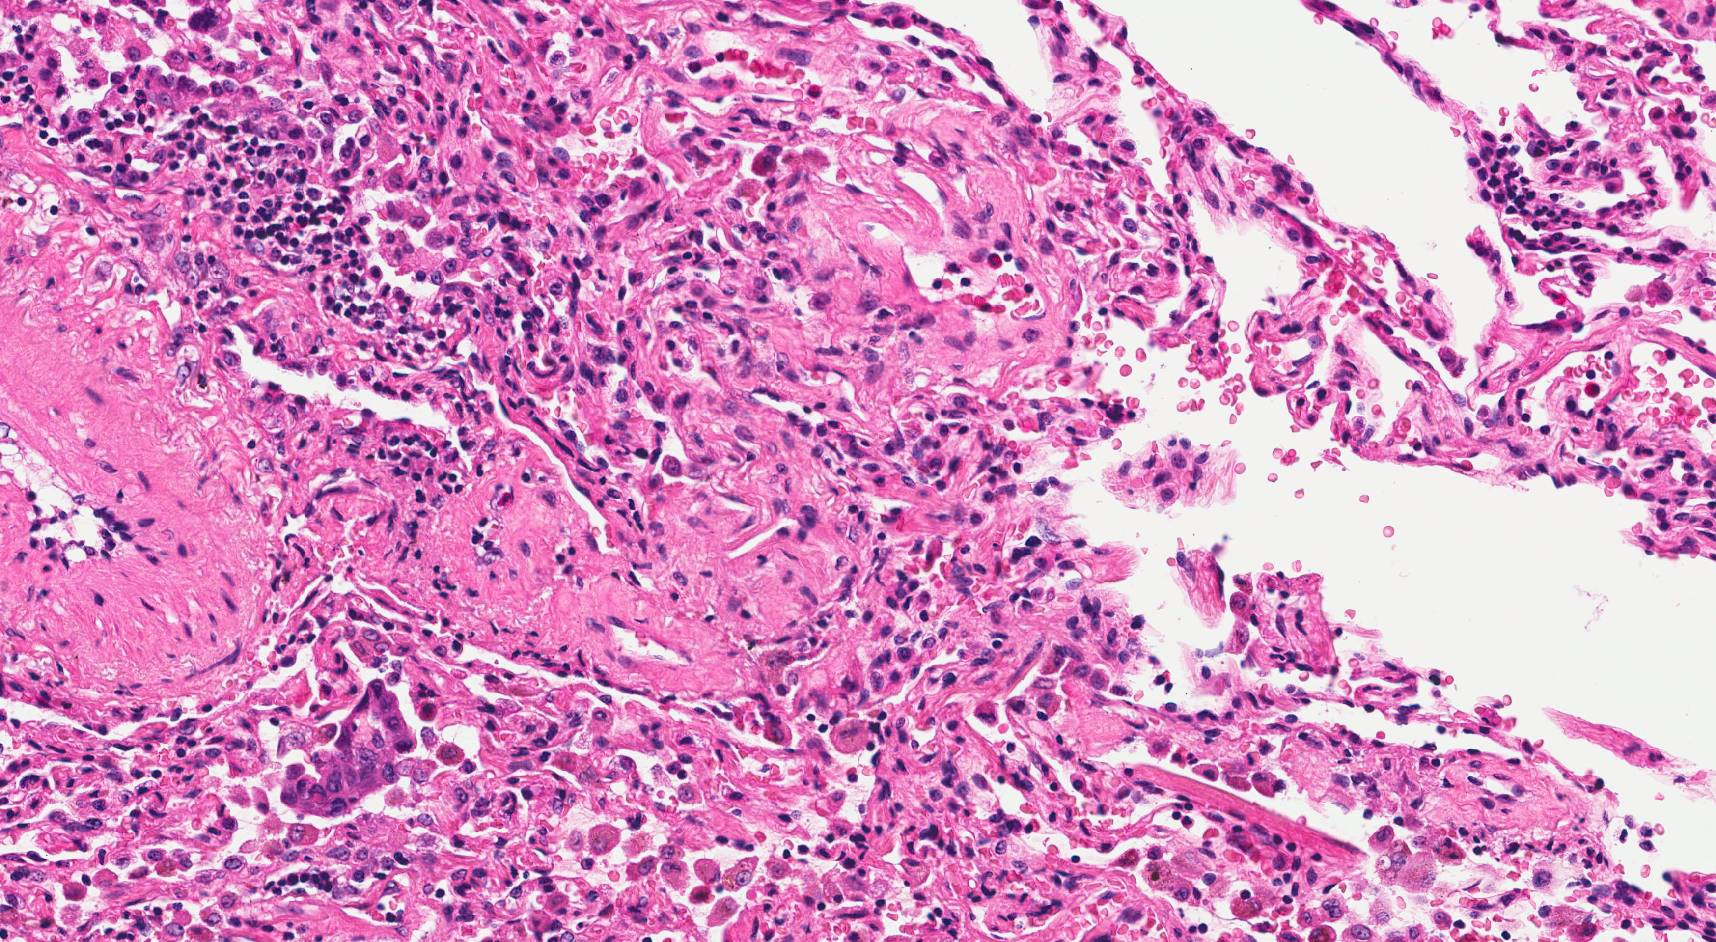stas: (275, 679, 416, 822)
